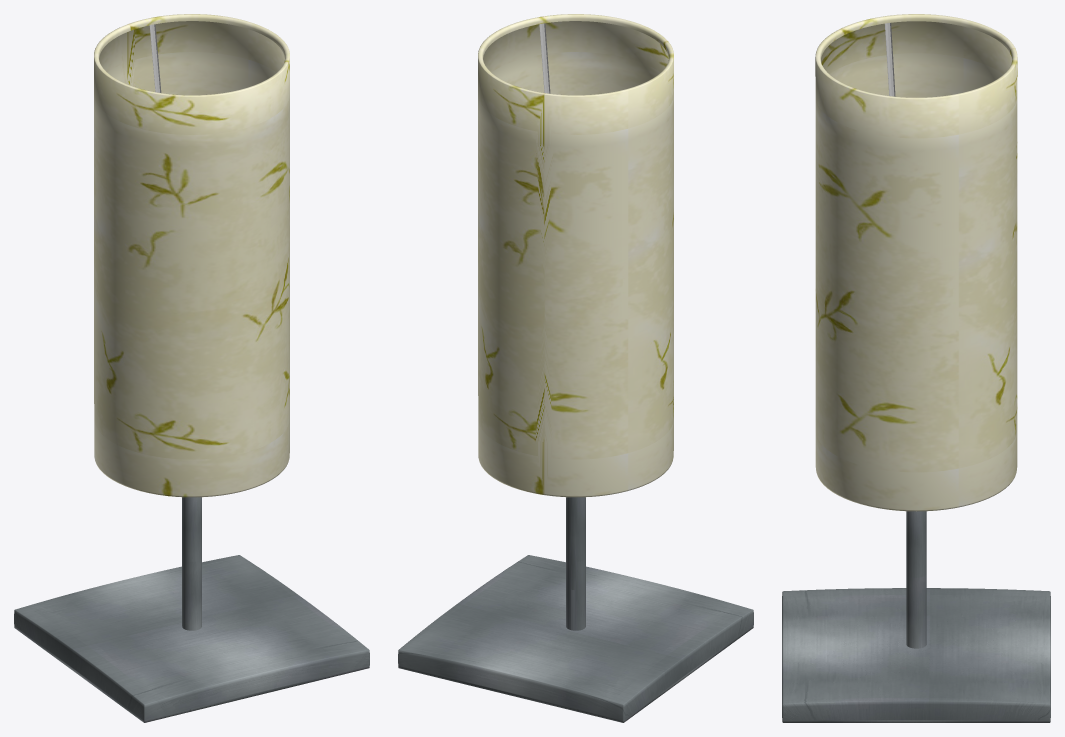
File: sweethome3d-scopia-lamp-62.glb
The picture shows the model from 3 angles, left to right: view 1: azimuth 30°, elevation 25°; view 2: azimuth 150°, elevation 25°; view 3: azimuth 270°, elevation 25°; orthographic projection. The views are drawn at different scales.
Visible parts, largest first — view 1: lampshade_off_pan_lampshade_off_pan_lampshade_off_pantall_pa, metal_brush_pulido2.j_metal_brush_pulido2.j_metal_brush_puli, lampshade_off_pan.001_lampshade_off_pan.001_lampshade_off_pa; view 2: lampshade_off_pan_lampshade_off_pan_lampshade_off_pantall_pa, metal_brush_pulido2.j_metal_brush_pulido2.j_metal_brush_puli, lampshade_off_pan.001_lampshade_off_pan.001_lampshade_off_pa; view 3: lampshade_off_pan_lampshade_off_pan_lampshade_off_pantall_pa, metal_brush_pulido2.j_metal_brush_pulido2.j_metal_brush_puli, lampshade_off_pan.001_lampshade_off_pan.001_lampshade_off_pa, whitesop_whitesop_whitesop.
Part boxes in pixels (bbox=[...]): lampshade_off_pan_lampshade_off_pan_lampshade_off_pantall_pa: bbox=[94, 14, 289, 497]; metal_brush_pulido2.j_metal_brush_pulido2.j_metal_brush_puli: bbox=[14, 497, 369, 722]; lampshade_off_pan.001_lampshade_off_pan.001_lampshade_off_pa: bbox=[99, 21, 284, 95]; lampshade_off_pan_lampshade_off_pan_lampshade_off_pantall_pa: bbox=[478, 14, 673, 497]; metal_brush_pulido2.j_metal_brush_pulido2.j_metal_brush_puli: bbox=[398, 497, 753, 722]; lampshade_off_pan.001_lampshade_off_pan.001_lampshade_off_pa: bbox=[483, 21, 668, 95]; lampshade_off_pan_lampshade_off_pan_lampshade_off_pantall_pa: bbox=[815, 14, 1017, 511]; metal_brush_pulido2.j_metal_brush_pulido2.j_metal_brush_puli: bbox=[782, 511, 1050, 722]; lampshade_off_pan.001_lampshade_off_pan.001_lampshade_off_pa: bbox=[821, 21, 1011, 97]; whitesop_whitesop_whitesop: bbox=[884, 23, 895, 96].
Bounding box in the file's own units: 20 × 50.11 × 20.
5 materials, 2 textured.
